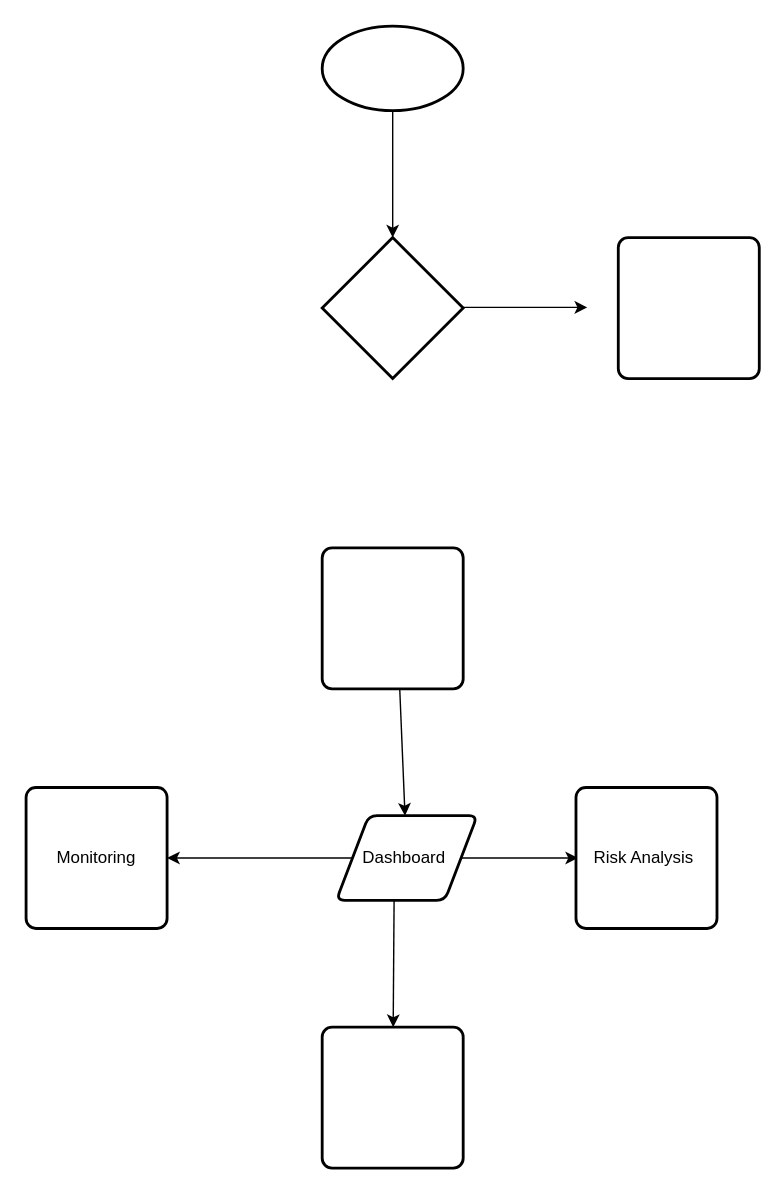
The diagram is 784 pixels wide and 1193 high, and some of its shapes have lost their labels. The centre of each missing label's shape, as x and y in pixels:
Login/Signup: the point at 392,307
Signup: the point at 392,617
